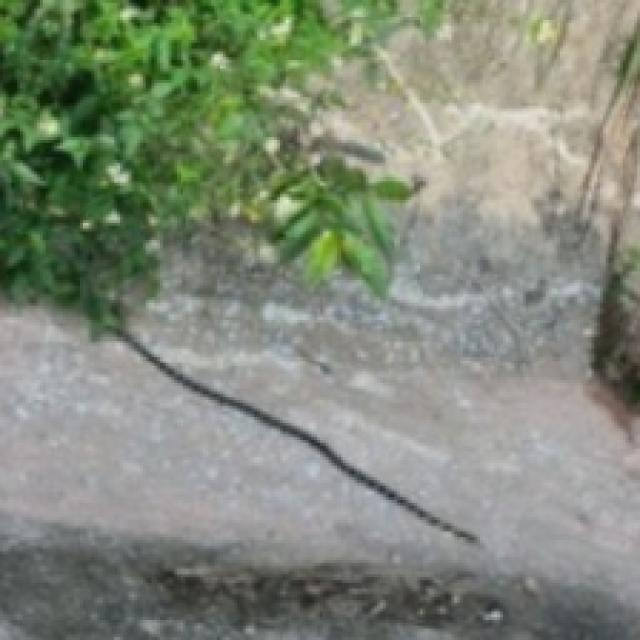king cobra: (114, 326, 477, 540)
